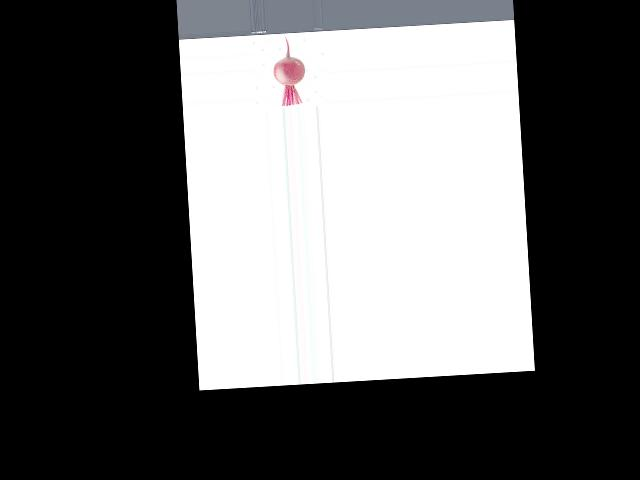beet: (271, 34, 307, 106)
